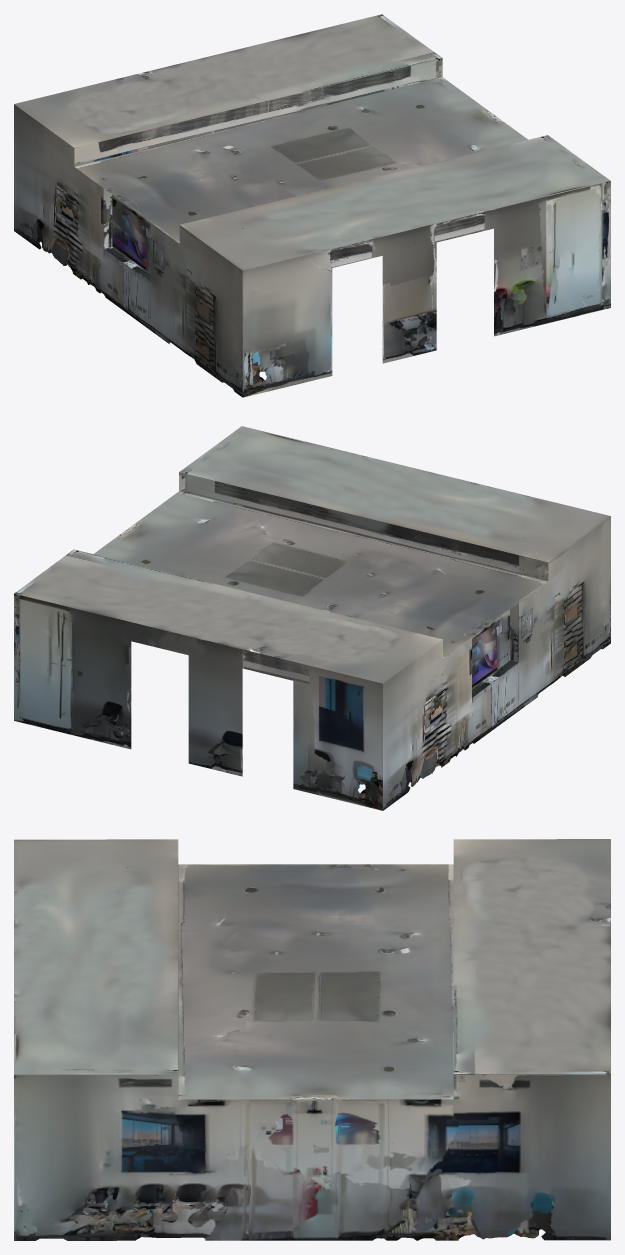
Rendered from 404-walls-LPfbx.fbx.
The picture shows the model from 3 angles, top to bottom: view 1: azimuth 30°, elevation 25°; view 2: azimuth 150°, elevation 25°; view 3: azimuth 270°, elevation 25°; orthographic projection. The views are drawn at different scales.
Parts seen in each view (by area): view 1: Cube; view 2: Cube; view 3: Cube.
Part boxes in pixels (bbox=[...]): Cube: bbox=[14, 14, 610, 397]; Cube: bbox=[14, 426, 610, 810]; Cube: bbox=[14, 839, 610, 1240].
Bounding box in the file's own units: 794 × 261 × 851.
1 material, 1 textured.
